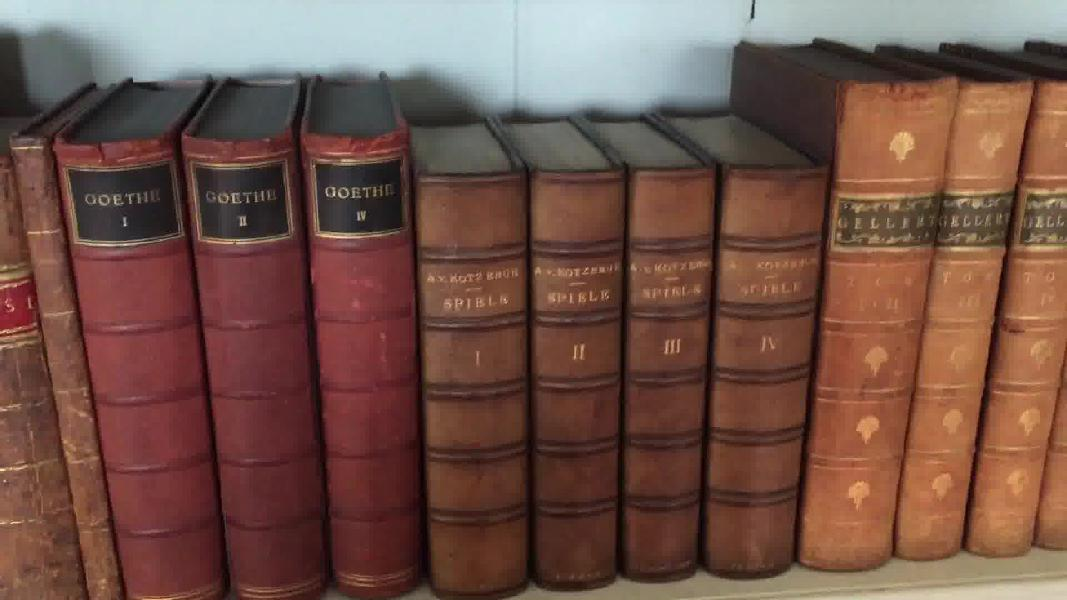Aa6-11_13w: (51, 136, 440, 600)
Aa6-14_17: (396, 155, 830, 600)
Aa6-18_23: (796, 50, 1067, 583)
